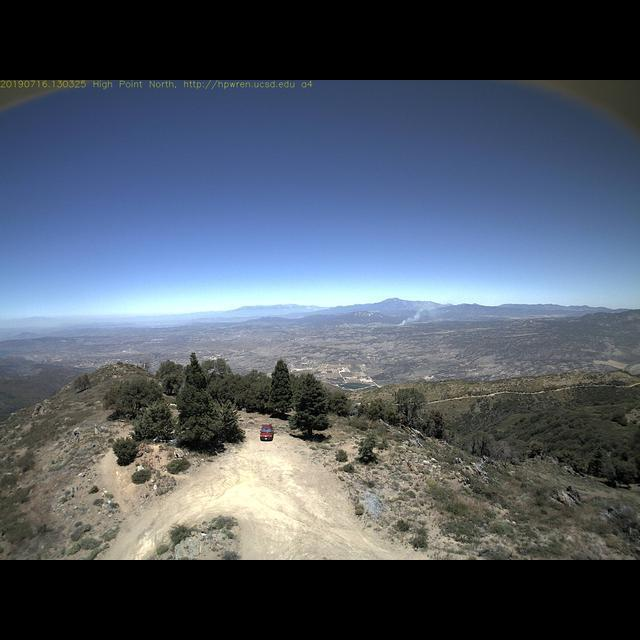Smoke: (392, 300, 445, 323)
